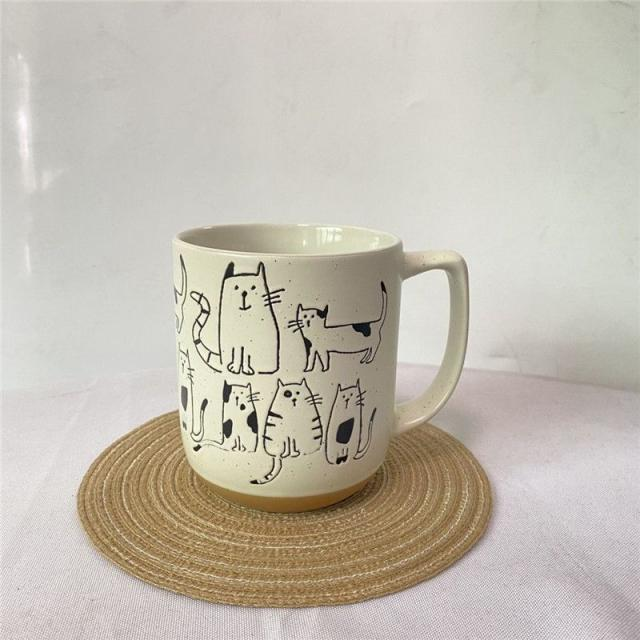glass cup: (172, 222, 470, 512)
